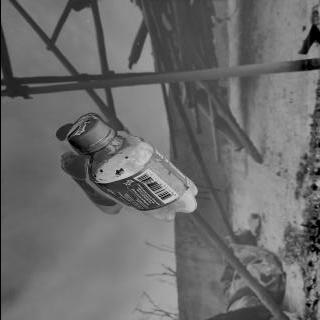bottle: (63, 117, 202, 224)
